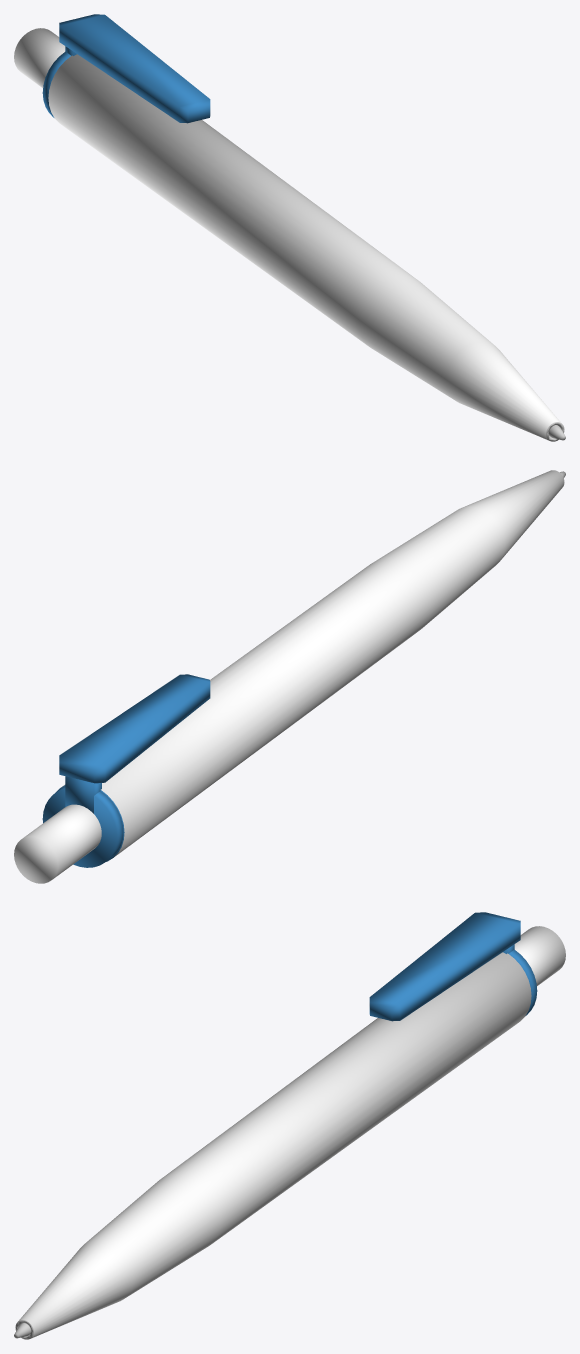
Rendered from pen.glb.
The picture shows the model from 3 angles, top to bottom: view 1: azimuth 30°, elevation 25°; view 2: azimuth 150°, elevation 25°; view 3: azimuth 330°, elevation 25°; orthographic projection.
Parts seen in each view (by area): view 1: Cylinder.001; view 2: Cylinder.001; view 3: Cylinder.001.
Part boxes in pixels (bbox=[...]): Cylinder.001: bbox=[14, 14, 565, 441]; Cylinder.001: bbox=[14, 470, 565, 883]; Cylinder.001: bbox=[14, 912, 565, 1339].
Size of the model in its own units: 2 by 2.64 by 24.02.
1 material, 1 textured.
